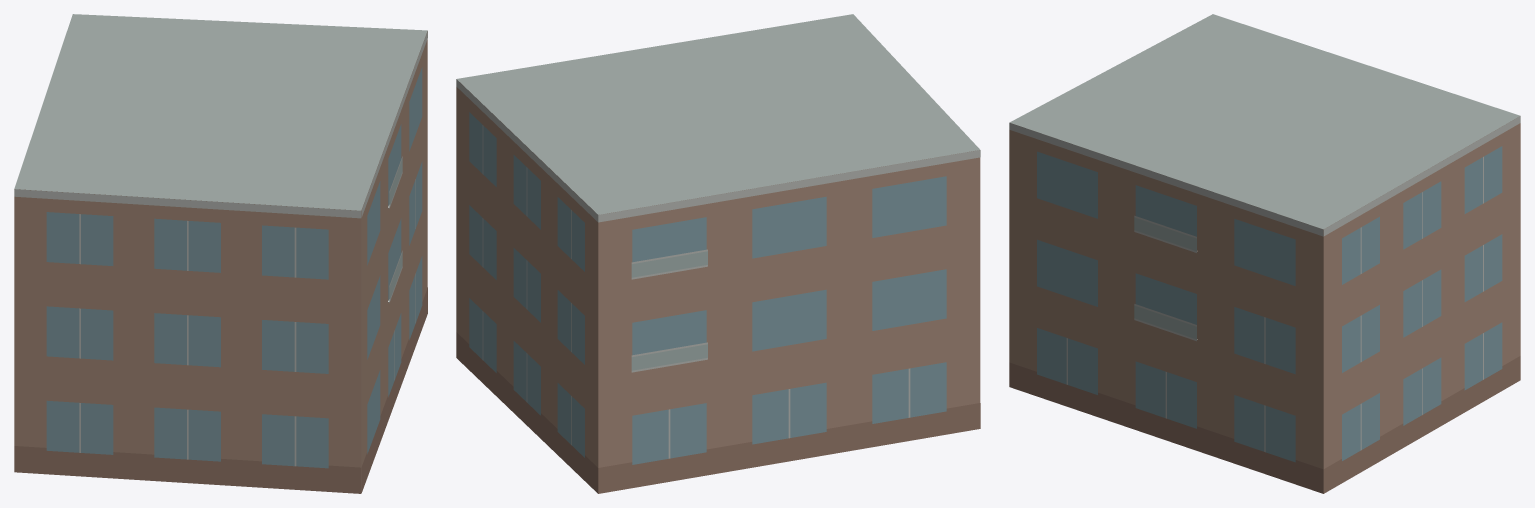
The model's file is survey-upis-32900943.glb.
The picture shows the model from 3 angles, left to right: view 1: azimuth 30°, elevation 25°; view 2: azimuth 150°, elevation 25°; view 3: azimuth 270°, elevation 25°; orthographic projection. The views are drawn at different scales.
Visible parts, largest first — view 1: survey-upis-32900943.tmp; view 2: survey-upis-32900943.tmp; view 3: survey-upis-32900943.tmp.
Boxes of the visible parts, x1,y1,x2,y2 form: survey-upis-32900943.tmp: (14, 14, 427, 493); survey-upis-32900943.tmp: (456, 14, 980, 493); survey-upis-32900943.tmp: (1009, 14, 1520, 493).
Bounding box in the file's own units: 15.73 × 9 × 15.78.
